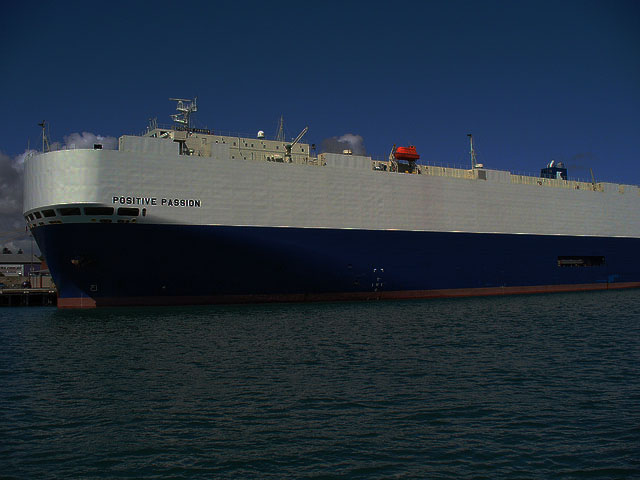PCC: (25, 103, 640, 309)
